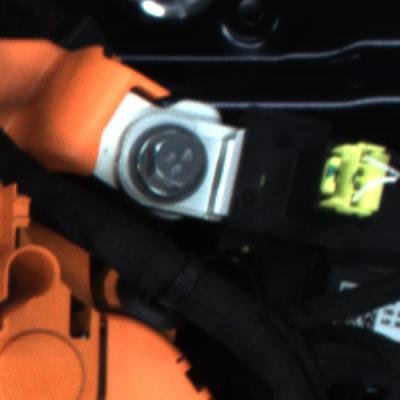nut_b: (130, 123, 214, 213)
